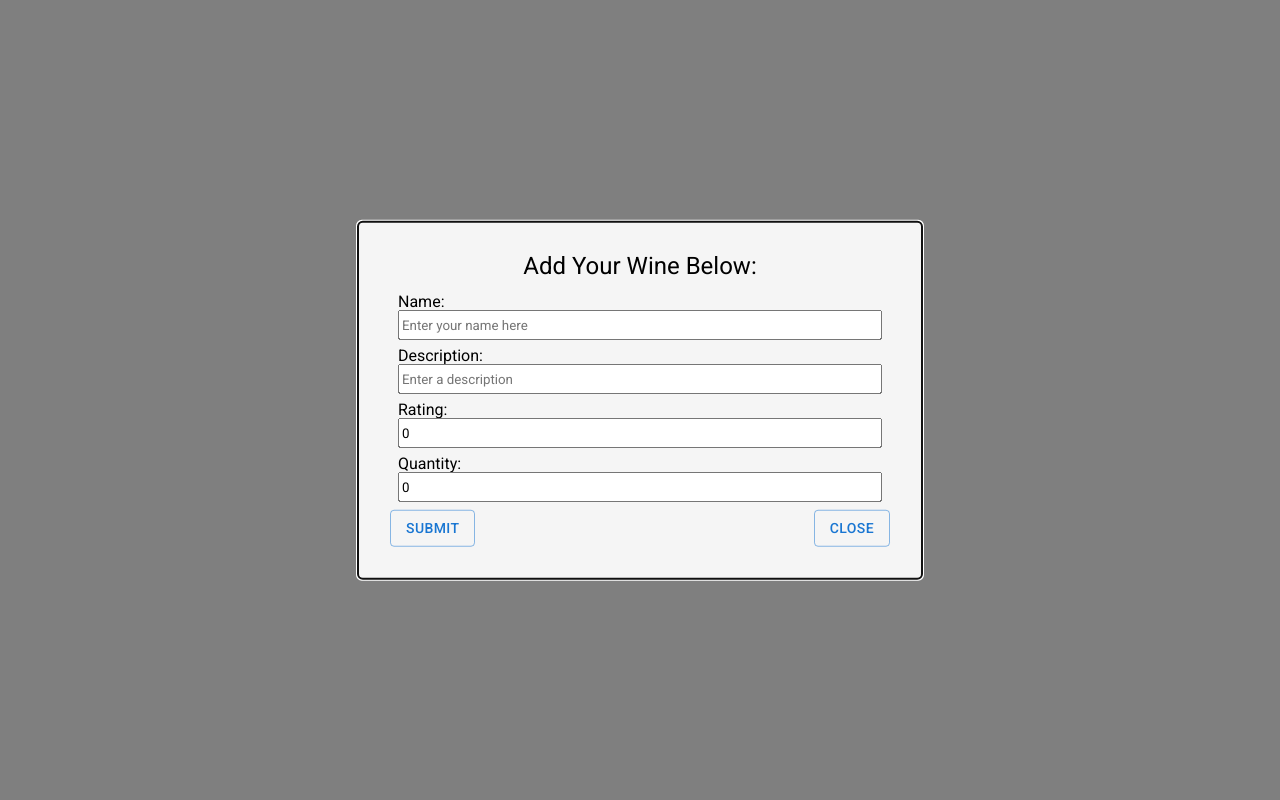
it: user can fill out the form
This screenshot has width=1280, height=800.
Step 1. Type "Some Wine" into the field with test id "form-name-id" → (640, 325), box [398,310,882,340]
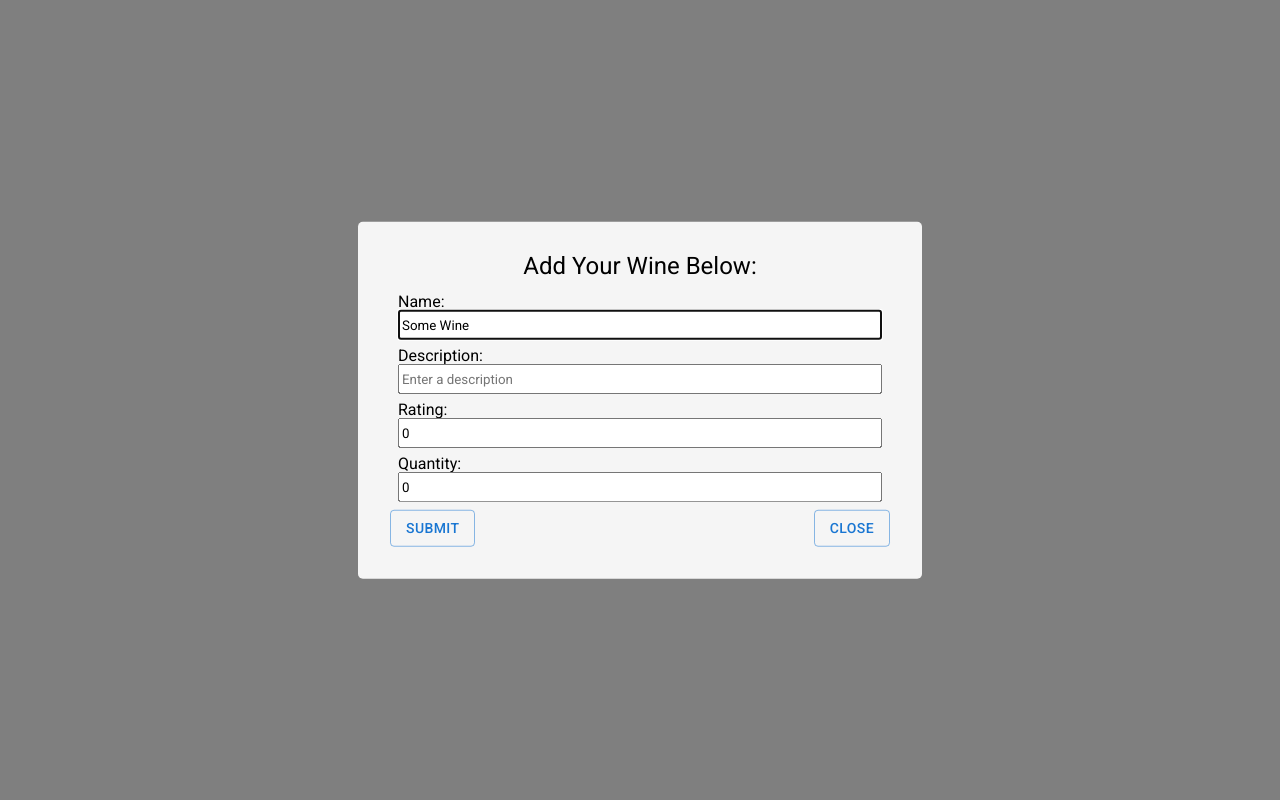
Step 2. Type "Some wine description" into the field with test id "form-description-id" → (640, 379), box [398,364,882,394]
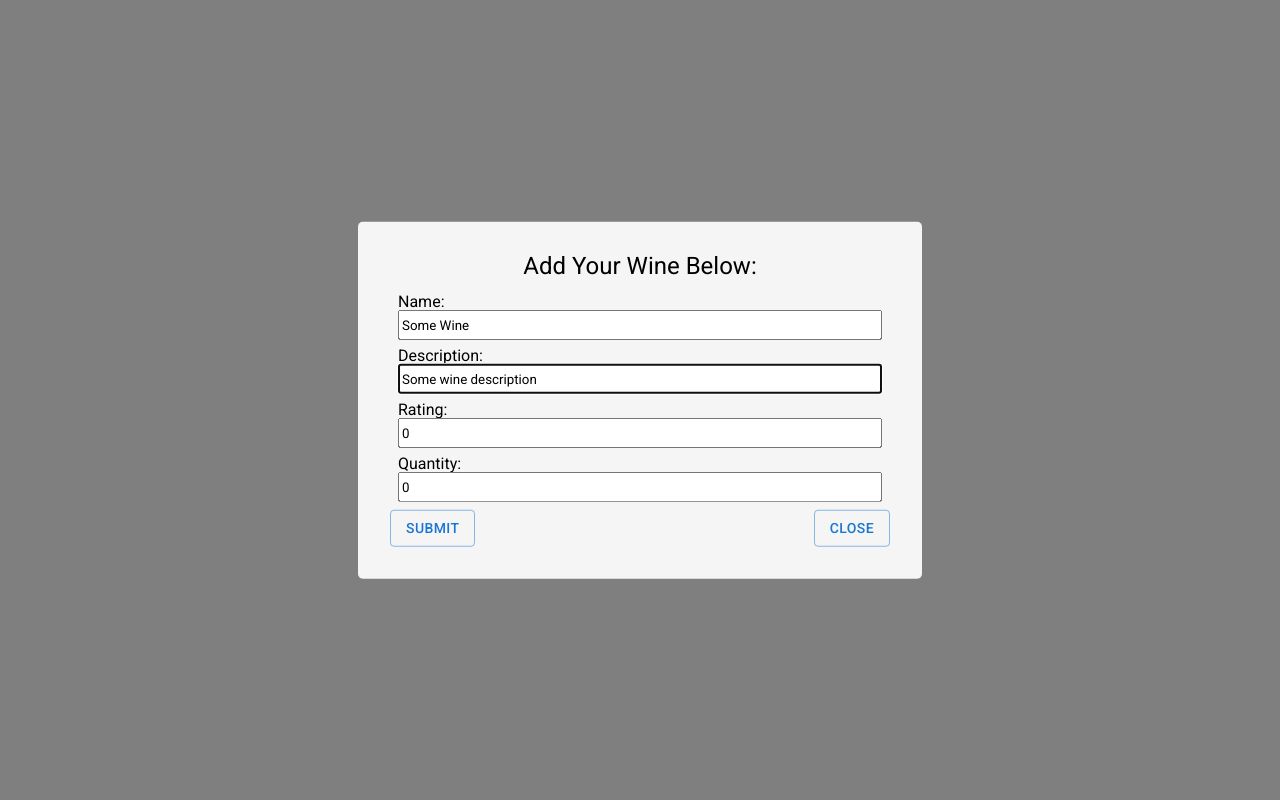
Step 3. Type "1" into the number field with test id "form-rating-id" → (640, 433), box [398,418,882,448]
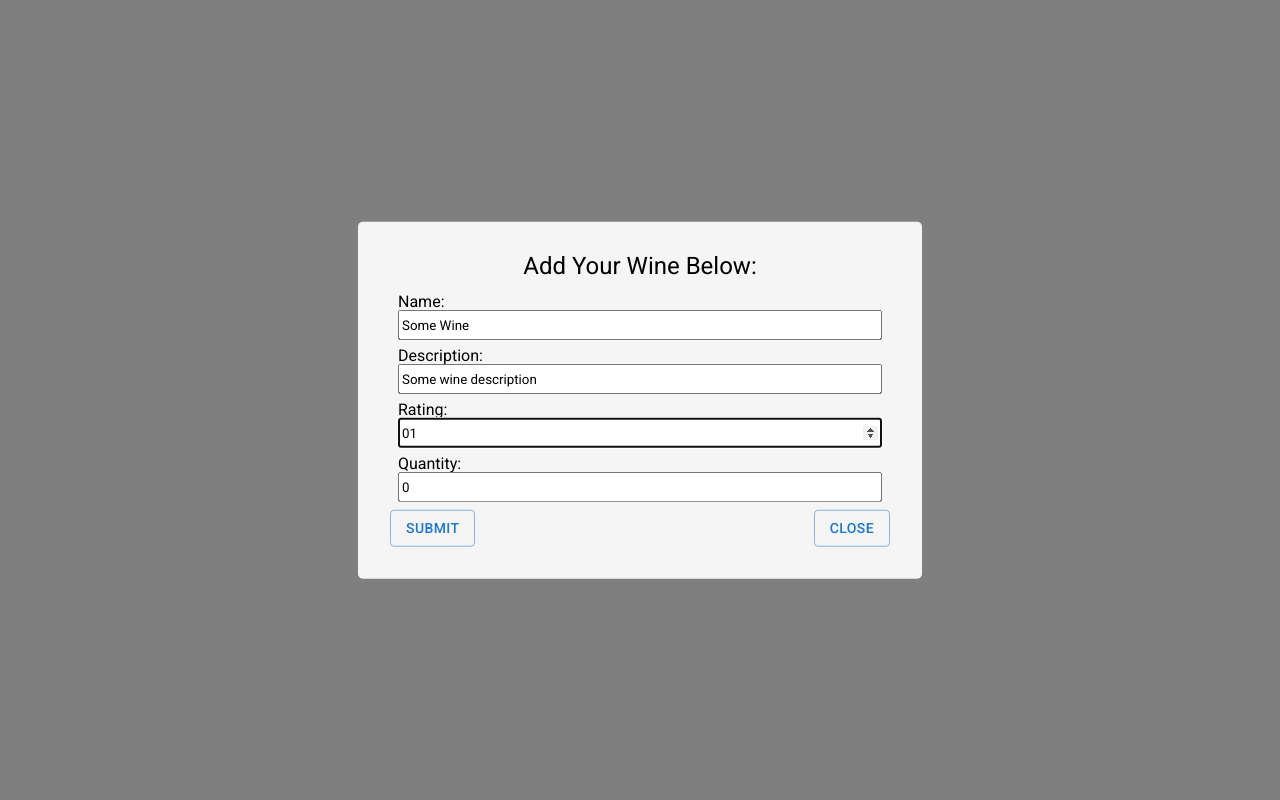
Step 4. Type "1" into the number field with test id "form-quantity-id" → (640, 487), box [398,472,882,502]
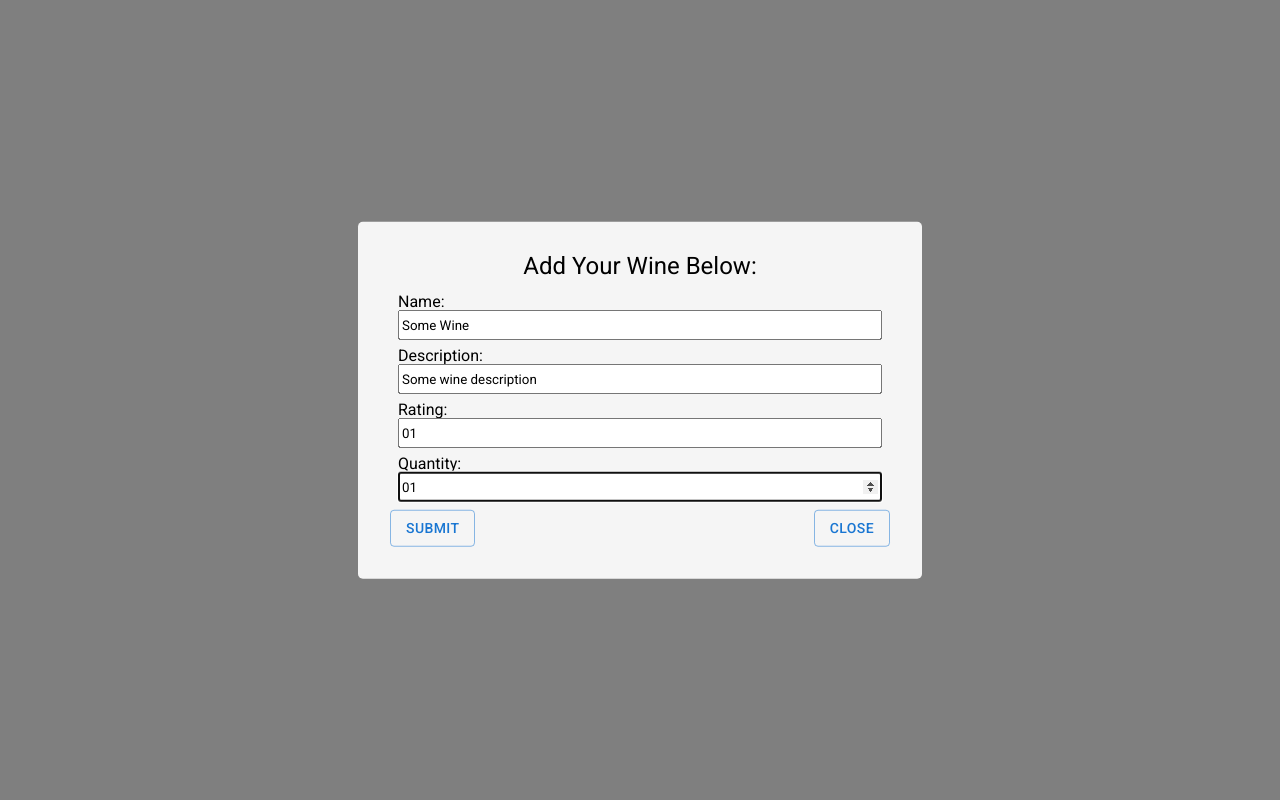
Check: the number field with test id "form-rating-id" holds "1", box [398,418,882,448]
Check: the number field with test id "form-quantity-id" holds "1", box [398,472,882,502]
